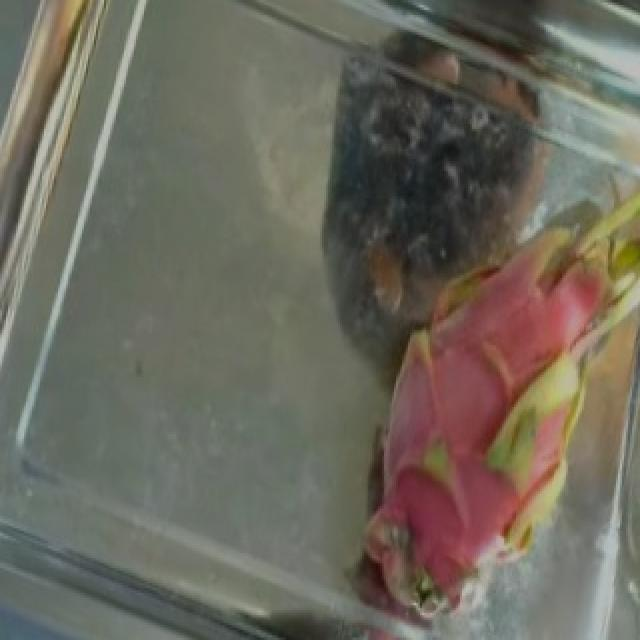fruit: (284, 203, 640, 635)
